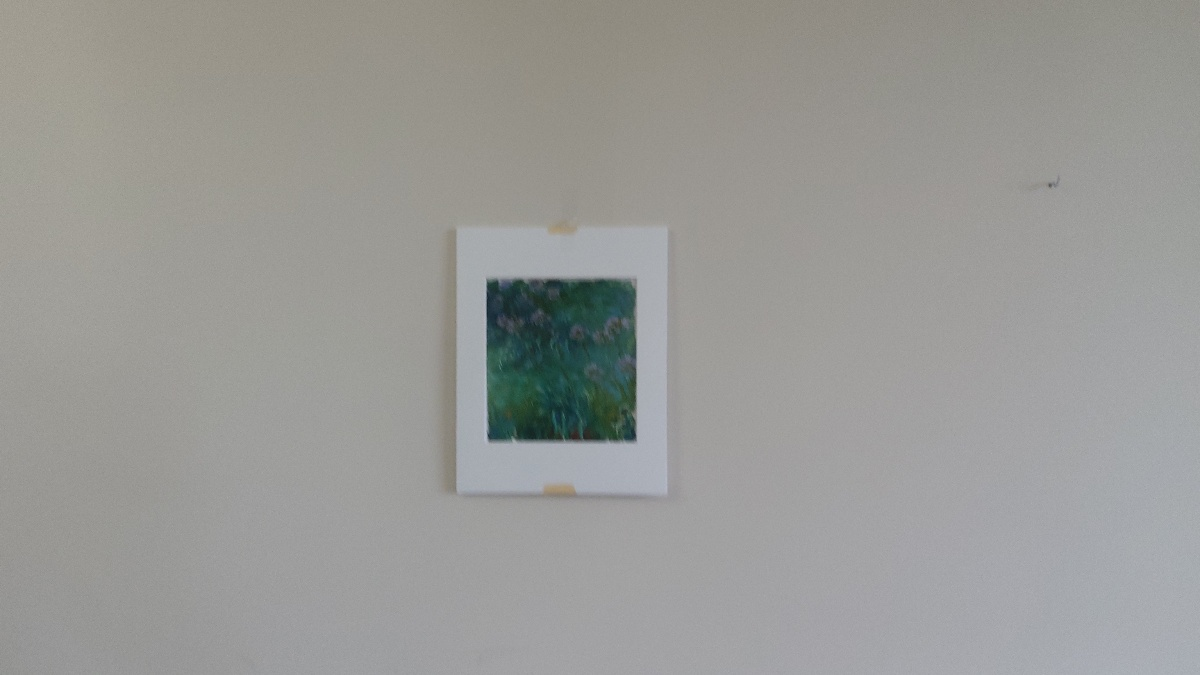painting: (478, 273, 647, 452)
